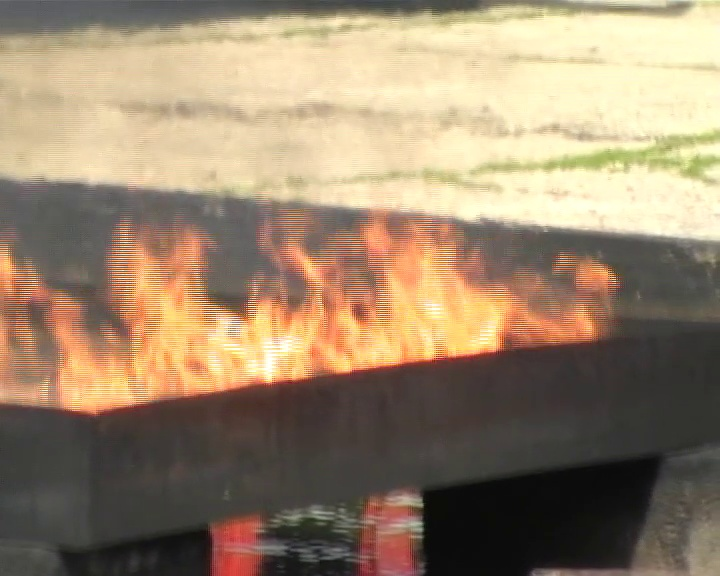fire: (1, 215, 609, 408)
